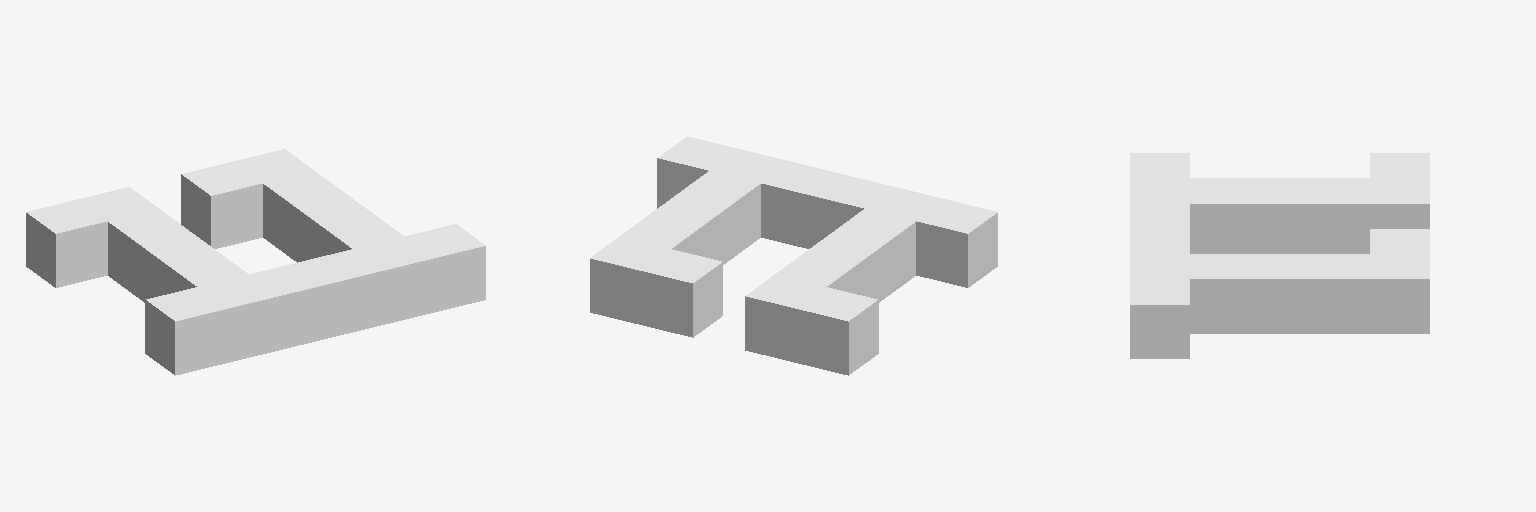
File: Number-11.obj
3 renders of one model, left to right at view 1: azimuth 30°, elevation 25°; view 2: azimuth 150°, elevation 25°; view 3: azimuth 270°, elevation 25°, orthographic.
Size of the model in its own units: 6 by 1 by 5.